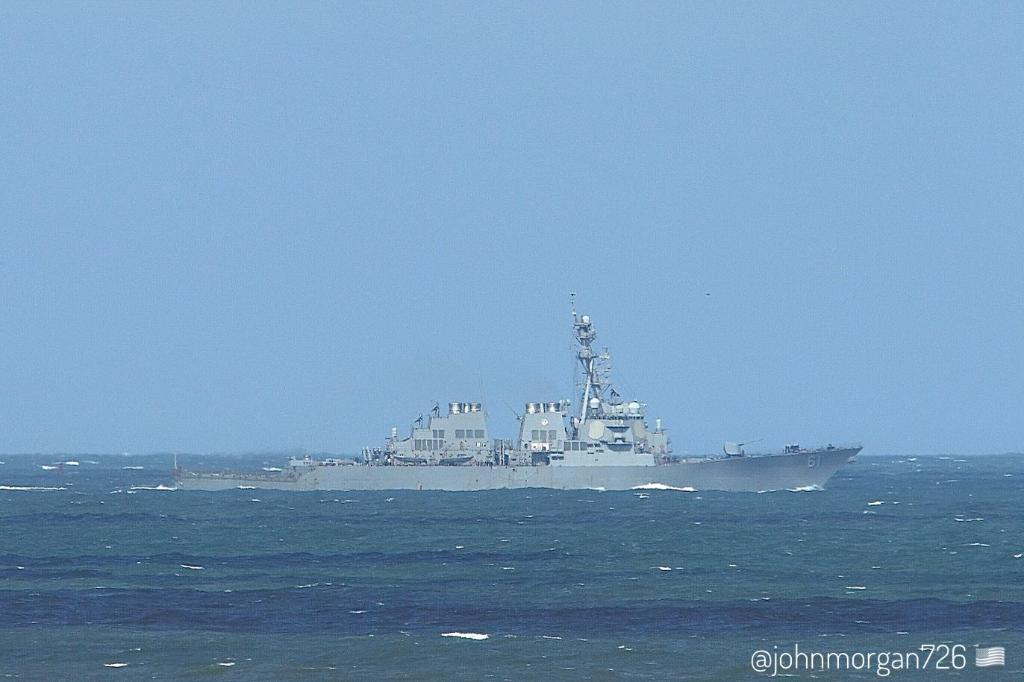Warship: (164, 286, 868, 498)
